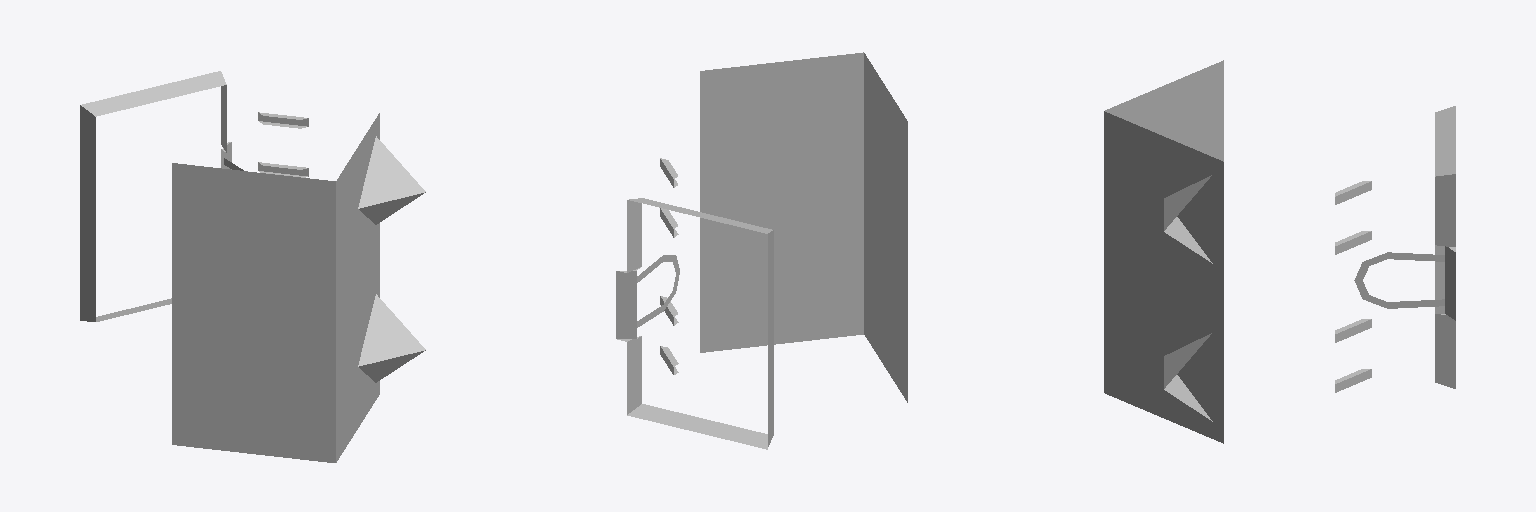
File: houseframe.obj
3 renders of one model, left to right at view 1: azimuth 30°, elevation 25°; view 2: azimuth 150°, elevation 25°; view 3: azimuth 270°, elevation 25°, orthographic.
Visible parts, largest first — view 1: Mesh1 Component_3_1 Model, Mesh4 Component_5_1 Model, Mesh11 Model, Mesh2 Component_4_1 Model, Mesh3 Component_4_2 Model, Mesh8 Component_7_4 Model, Mesh7 Component_7_3 Model; view 2: Mesh4 Component_5_1 Model, Mesh1 Component_3_1 Model, Mesh11 Model, Mesh10 Component_1_1 Model, Mesh9 Component_8_1 Model; view 3: Mesh4 Component_5_1 Model, Mesh1 Component_3_1 Model, Mesh11 Model, Mesh3 Component_4_2 Model, Mesh2 Component_4_1 Model, Mesh9 Component_8_1 Model, Mesh10 Component_1_1 Model.
Part boxes in pixels (x1,y1,x2,y2): Mesh1 Component_3_1 Model: (172, 163, 335, 462); Mesh4 Component_5_1 Model: (336, 113, 379, 462); Mesh11 Model: (80, 71, 230, 321); Mesh2 Component_4_1 Model: (358, 294, 425, 382); Mesh3 Component_4_2 Model: (358, 136, 425, 224); Mesh8 Component_7_4 Model: (258, 112, 308, 128); Mesh7 Component_7_3 Model: (258, 162, 308, 177); Mesh4 Component_5_1 Model: (700, 52, 863, 352); Mesh1 Component_3_1 Model: (864, 53, 907, 402); Mesh11 Model: (617, 198, 773, 449); Mesh10 Component_1_1 Model: (616, 271, 636, 338); Mesh9 Component_8_1 Model: (637, 255, 679, 327); Mesh4 Component_5_1 Model: (1104, 111, 1223, 443); Mesh1 Component_3_1 Model: (1105, 60, 1223, 161); Mesh11 Model: (1435, 106, 1455, 388); Mesh3 Component_4_2 Model: (1164, 175, 1212, 263); Mesh2 Component_4_1 Model: (1164, 333, 1212, 421); Mesh9 Component_8_1 Model: (1354, 252, 1444, 308); Mesh10 Component_1_1 Model: (1445, 246, 1455, 320).
Bounding box in the file's own units: 190 × 229 × 259.